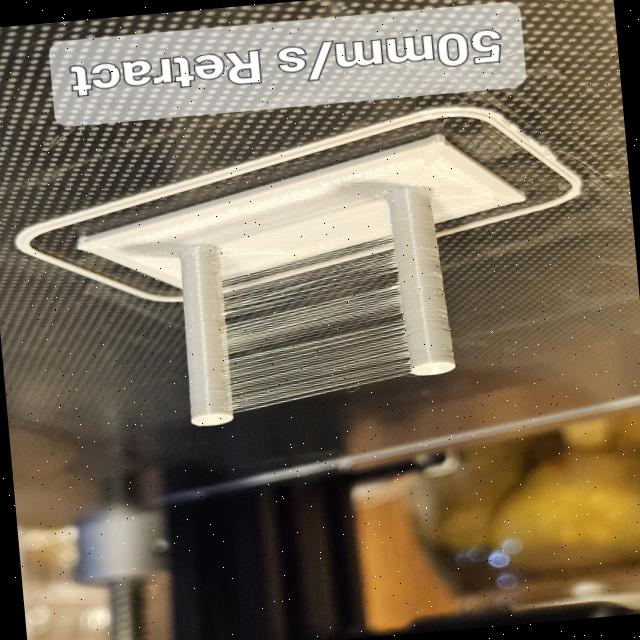stringing: (221, 235, 411, 412)
